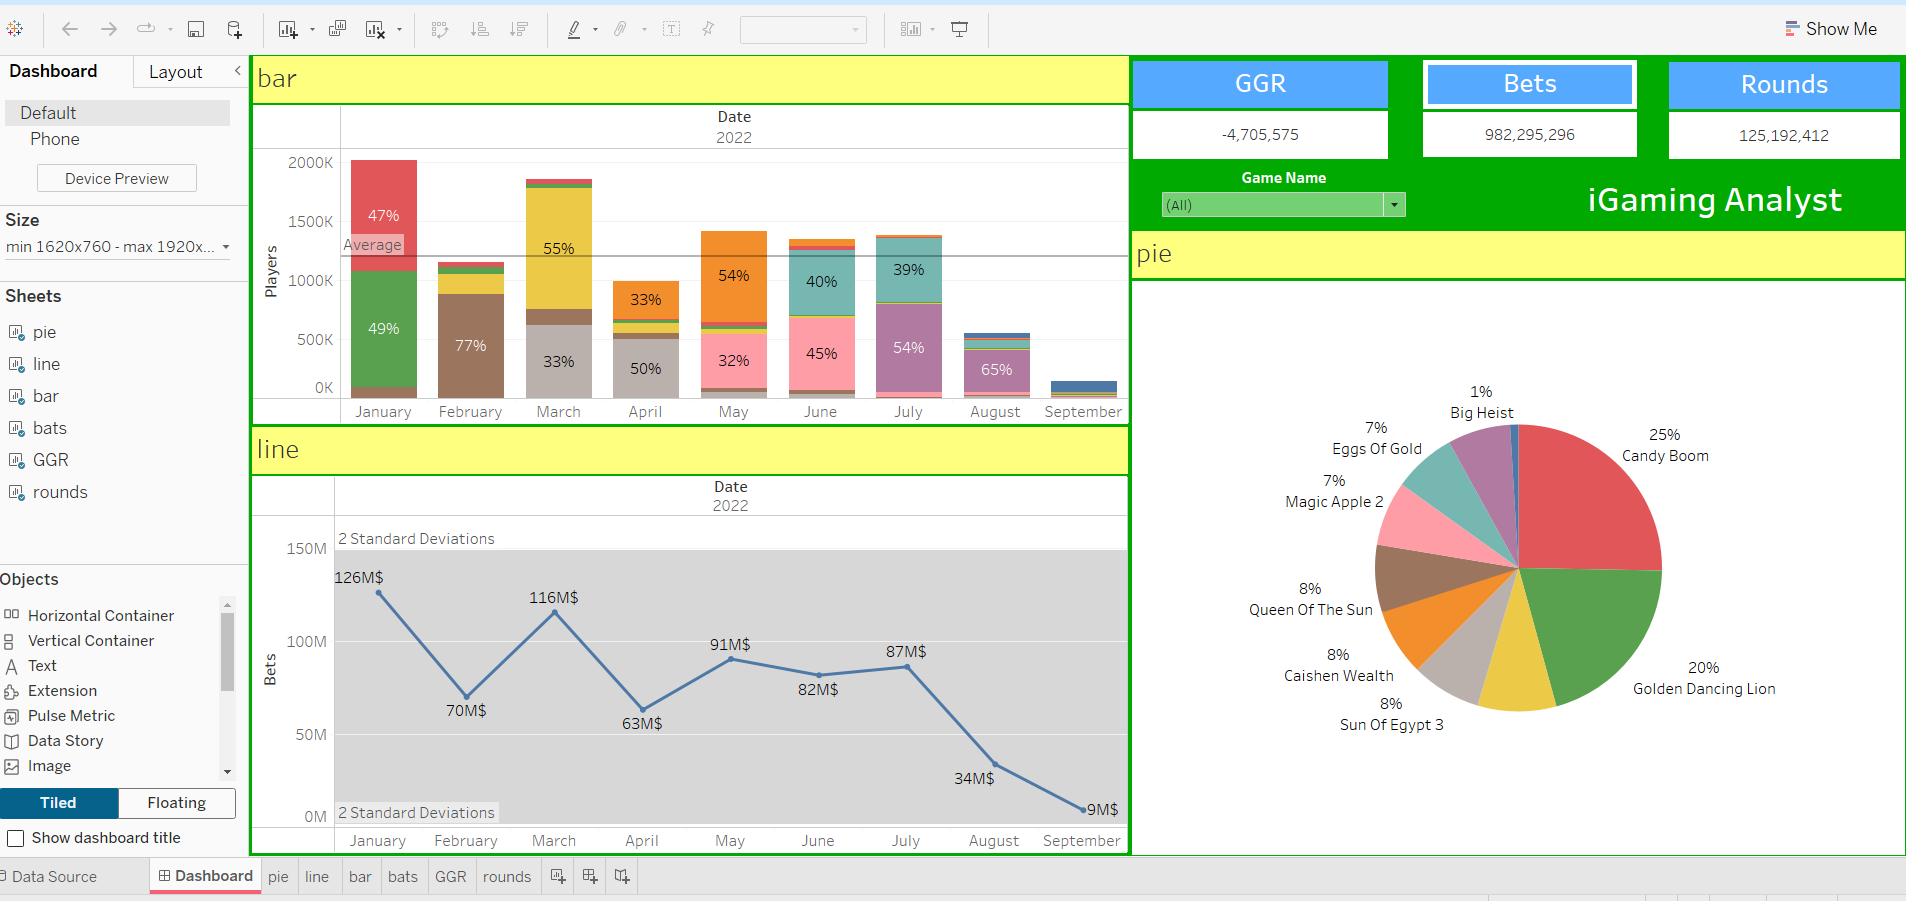

This screenshot's page, from the dashboard's own definition file:
{"tool":"tableau","page":{"name":"Dashboard","canvas":[1000,1000],"units":"permille","ordinal":0},"visuals":[{"type":"worksheet","title":"bar","mark":"Bar","rows":["Players"],"cols":["Date","Date"],"box":[2.4,1.2,528.7,459.4]},{"type":"worksheet","title":"bats","mark":"Automatic","box":[708.5,6.2,129.2,121.1]},{"type":"worksheet","title":"GGR","mark":"Automatic","box":[533.5,7.5,153.9,122.4]},{"type":"worksheet","title":"rounds","mark":"Automatic","box":[857,8.7,139.4,121.1]},{"type":"text","box":[774.3,137.3,220.9,79.9]},{"type":"filter","title":"bar","param":"[federated.1ao1uyx0mq2m5e10x3jkg1fd749d].[none:Game Name:nk]","box":[549.2,139.8,150.9,76.2]},{"type":"worksheet","title":"pie","mark":"Pie","box":[532.9,219.7,466.5,779]},{"type":"worksheet","title":"line ","mark":"Line","rows":["Bets"],"cols":["Date","Date"],"box":[1.8,464.4,528.7,531.8]}]}

Visuals, with their boxes on the dashboard's canvas, which has no fixed pixel size, in thousandths of its width and height (x1, y1, x2, y2). These are canvas units, not pixel positions in the 1906x901 screenshot, which may show the page scaled, cropped or inside an application window:
"bar" worksheet (Bar marks): [left=2, top=1, right=531, bottom=461]
"bats" worksheet: [left=708, top=6, right=838, bottom=127]
"GGR" worksheet: [left=534, top=8, right=687, bottom=130]
"rounds" worksheet: [left=857, top=9, right=996, bottom=130]
text: [left=774, top=137, right=995, bottom=217]
"bar" filter: [left=549, top=140, right=700, bottom=216]
"pie" worksheet (Pie marks): [left=533, top=220, right=999, bottom=999]
"line " worksheet (Line marks): [left=2, top=464, right=530, bottom=996]
